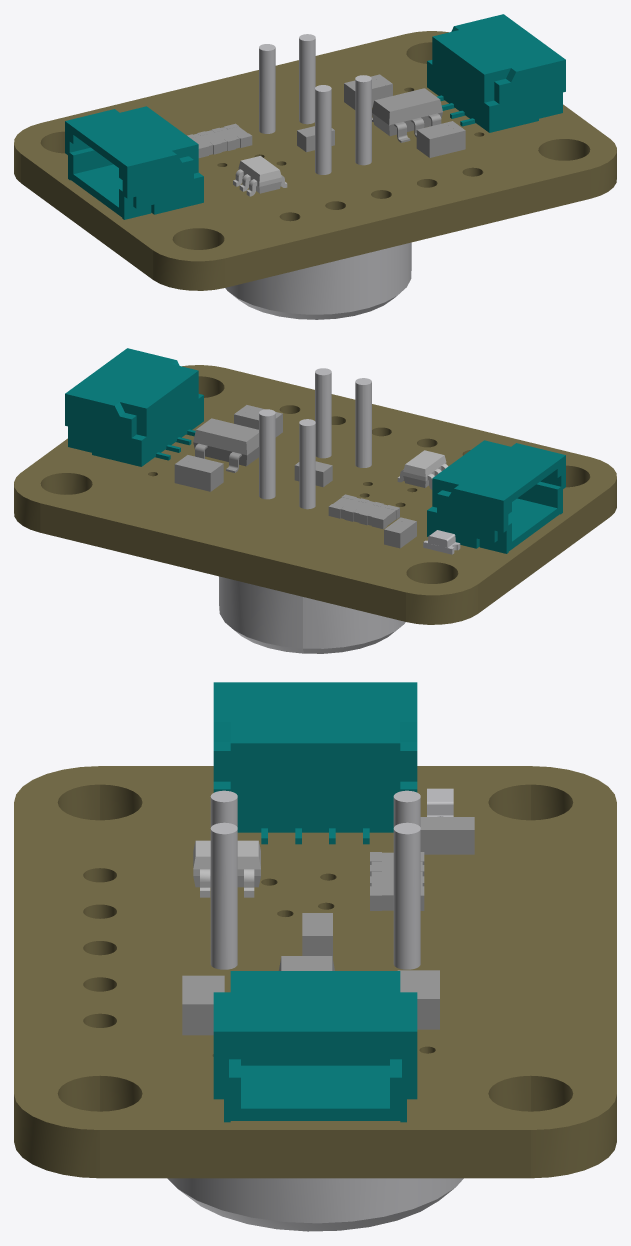
Rendered from ada-4469.glb.
3 views of the same model, one above another, from view 1: azimuth 30°, elevation 25°; view 2: azimuth 150°, elevation 25°; view 3: azimuth 270°, elevation 25° (orthographic). The views are drawn at different scales.
Parts seen in each view (by area): view 1: 0.16666666666666666_0.16666666666666666_0.08333333333333333_, 0_0.25_0.25_0, 0.5833333333333334_0.5833333333333334_0.5833333333333334_0.8, 0.3333333333333333_0.3333333333333333_0.3333333333333333_0, 0.5_0.5_0.5_0.85; view 2: 0.16666666666666666_0.16666666666666666_0.08333333333333333_, 0_0.25_0.25_0, 0.5833333333333334_0.5833333333333334_0.5833333333333334_0.8, 0.3333333333333333_0.3333333333333333_0.3333333333333333_0, 0.5_0.5_0.5_0.85; view 3: 0.16666666666666666_0.16666666666666666_0.08333333333333333_, 0_0.25_0.25_0, 0.5833333333333334_0.5833333333333334_0.5833333333333334_0.8, 0.3333333333333333_0.3333333333333333_0.3333333333333333_0, 0.5_0.5_0.5_0.85.
Boxes of the visible parts, left/top/right/bottom form: 0.16666666666666666_0.16666666666666666_0.08333333333333333_: left=14, top=31, right=616, bottom=290; 0_0.25_0.25_0: left=65, top=14, right=565, bottom=219; 0.5833333333333334_0.5833333333333334_0.5833333333333334_0.8: left=225, top=34, right=411, bottom=319; 0.3333333333333333_0.3333333333333333_0.3333333333333333_0: left=187, top=74, right=465, bottom=157; 0.5_0.5_0.5_0.85: left=233, top=156, right=287, bottom=196; 0.16666666666666666_0.16666666666666666_0.08333333333333333_: left=14, top=365, right=616, bottom=624; 0_0.25_0.25_0: left=65, top=348, right=565, bottom=553; 0.5833333333333334_0.5833333333333334_0.5833333333333334_0.8: left=219, top=368, right=460, bottom=653; 0.3333333333333333_0.3333333333333333_0.3333333333333333_0: left=174, top=405, right=416, bottom=548; 0.5_0.5_0.5_0.85: left=397, top=450, right=448, bottom=489; 0.16666666666666666_0.16666666666666666_0.08333333333333333_: left=14, top=766, right=616, bottom=1178; 0_0.25_0.25_0: left=213, top=682, right=417, bottom=1122; 0.5833333333333334_0.5833333333333334_0.5833333333333334_0.8: left=167, top=788, right=463, bottom=1231; 0.3333333333333333_0.3333333333333333_0.3333333333333333_0: left=182, top=817, right=474, bottom=1035; 0.5_0.5_0.5_0.85: left=193, top=840, right=260, bottom=897.
Bounding box in the file's own units: 2.54 × 1.17 × 1.78.
